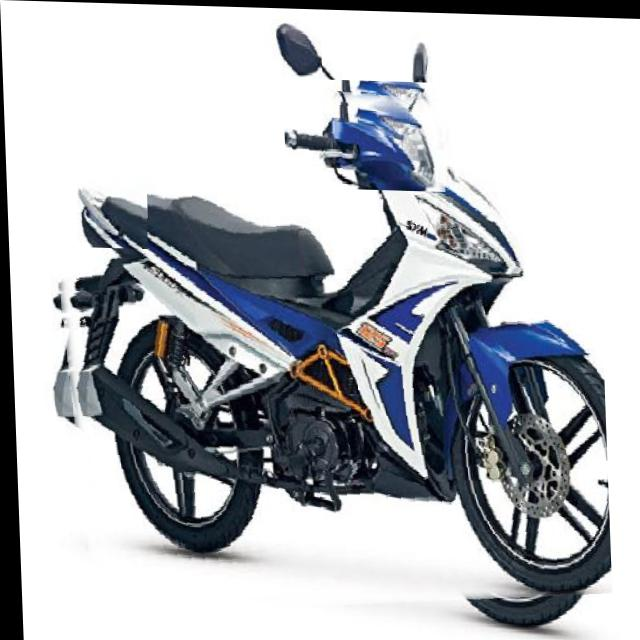All: (35, 71, 609, 628)
Head: (282, 85, 447, 189)
Tail: (71, 177, 147, 248)
